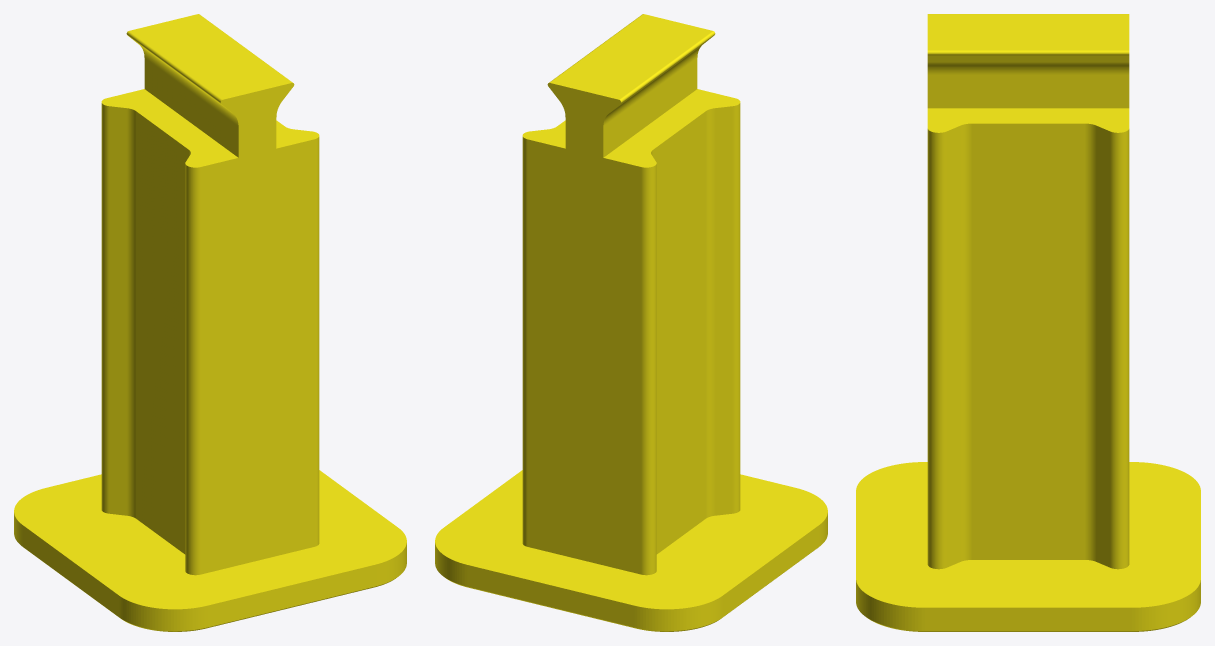
The model's file is slider_attachment_shaft.glb.
The picture shows the model from 3 angles, left to right: view 1: azimuth 30°, elevation 25°; view 2: azimuth 150°, elevation 25°; view 3: azimuth 270°, elevation 25°; orthographic projection. The views are drawn at different scales.
Parts seen in each view (by area): view 1: Node1; view 2: Node1; view 3: Node1.
Part boxes in pixels (<box>): Node1: <box>14,14,406,631</box>; Node1: <box>435,14,827,631</box>; Node1: <box>856,14,1200,631</box>.
Bounding box in the file's own units: 25 × 42.2 × 25.
